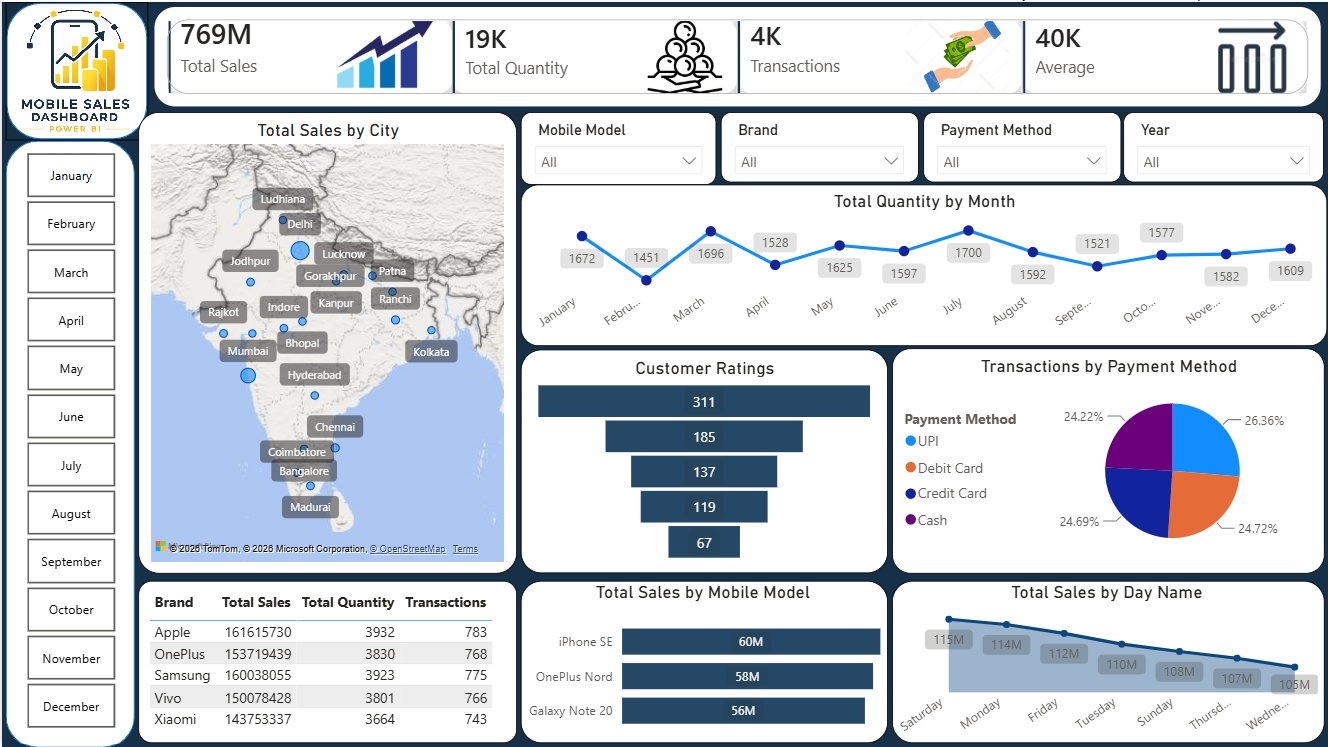

This screenshot's page, from the dashboard's own definition file:
{"tool":"powerbi","page":{"name":"Page 1","canvas":[1280,720],"ordinal":0},"visuals":[{"type":"shape","box":[4.1,0,137.8,133.7],"z":0},{"type":"image","box":[0,6.1,132.7,121.4],"z":1000},{"type":"shape","box":[4.1,133.7,124.5,586.7],"z":2000},{"type":"slicer","fields":{"Values":["MobileSalesData.Date.Variation.Date Hierarchy.Month"]},"box":[4.1,143.9,124.5,559.2],"z":3000},{"type":"cardVisual","fields":{"Data":["MobileSalesData.Total Sales","MobileSalesData.Total Quantity","MobileSalesData.Transactions","MobileSalesData.Average"]},"box":[142.4,0,1136.5,106.2],"z":4000},{"type":"map","fields":{"Category":["MobileSalesData.City"],"Size":["MobileSalesData.Total Sales"]},"box":[131.6,106.1,365.3,445.9],"z":5000},{"type":"lineChart","fields":{"Y":["MobileSalesData.Total Quantity"],"Category":["MobileSalesData.Date.Variation.Date Hierarchy.Month","MobileSalesData.Date.Variation.Date Hierarchy.Day"]},"box":[501,176.5,778.6,156.1],"z":6000},{"type":"clusteredBarChart","fields":{"Category":["MobileSalesData.Mobile Model"],"Y":["MobileSalesData.Total Sales"]},"box":[501,558.2,354.1,157.1],"z":7000},{"type":"pieChart","fields":{"Y":["MobileSalesData.Transactions"],"Category":["MobileSalesData.Payment Method"]},"box":[859.2,334.7,417.3,217.3],"z":8000},{"type":"funnel","title":"Customer Ratings by Customer Ratings","fields":{"Category":["MobileSalesData.Customer Ratings"],"Y":["CountNonNull(MobileSalesData.Customer Ratings)"]},"box":[501,335.7,354.1,216.3],"z":9000},{"type":"areaChart","fields":{"Y":["MobileSalesData.Total Sales"],"Category":["MobileSalesData.Day Name"]},"box":[859.2,558.2,417.3,157.1],"z":10000},{"type":"tableEx","fields":{"Values":["MobileSalesData.Brand","MobileSalesData.Total Sales","MobileSalesData.Total Quantity","MobileSalesData.Transactions"]},"box":[131.6,558.2,365.3,157.1],"z":11000},{"type":"slicer","fields":{"Values":["MobileSalesData.Mobile Model"]},"box":[501,106.1,188.8,70.4],"z":12000},{"type":"slicer","fields":{"Values":["MobileSalesData.Brand"]},"box":[693.9,106.1,190.8,68.4],"z":13000},{"type":"slicer","fields":{"Values":["MobileSalesData.Payment Method"]},"box":[888.8,106.1,190.8,68.4],"z":14000},{"type":"slicer","fields":{"Values":["MobileSalesData.Date.Variation.Date Hierarchy.Year"]},"box":[1082.7,106.1,193.9,68.4],"z":15000}]}

Visuals, with their boxes in screenshot pixels (x1, y1, x2, y2), scaled from the page's 1280x720 canvas onto the 1328x747 screenshot:
shape: <bbox>4, 0, 147, 139</bbox>
image: <bbox>0, 6, 138, 132</bbox>
shape: <bbox>4, 139, 133, 746</bbox>
slicer - MobileSalesData.Date.Variation.Date Hierarchy.Month: <bbox>4, 149, 133, 729</bbox>
cardVisual - MobileSalesData.Total Sales x MobileSalesData.Total Quantity: <bbox>148, 0, 1327, 110</bbox>
map - MobileSalesData.City x MobileSalesData.Total Sales: <bbox>137, 110, 516, 573</bbox>
lineChart - MobileSalesData.Total Quantity x MobileSalesData.Date.Variation.Date Hierarchy.Month: <bbox>520, 183, 1327, 345</bbox>
clusteredBarChart - MobileSalesData.Mobile Model x MobileSalesData.Total Sales: <bbox>520, 579, 887, 742</bbox>
pieChart - MobileSalesData.Transactions x MobileSalesData.Payment Method: <bbox>891, 347, 1324, 573</bbox>
"Customer Ratings by Customer Ratings" funnel: <bbox>520, 348, 887, 573</bbox>
areaChart - MobileSalesData.Total Sales x MobileSalesData.Day Name: <bbox>891, 579, 1324, 742</bbox>
tableEx - MobileSalesData.Brand x MobileSalesData.Total Sales: <bbox>137, 579, 516, 742</bbox>
slicer - MobileSalesData.Mobile Model: <bbox>520, 110, 716, 183</bbox>
slicer - MobileSalesData.Brand: <bbox>720, 110, 918, 181</bbox>
slicer - MobileSalesData.Payment Method: <bbox>922, 110, 1120, 181</bbox>
slicer - MobileSalesData.Date.Variation.Date Hierarchy.Year: <bbox>1123, 110, 1324, 181</bbox>
